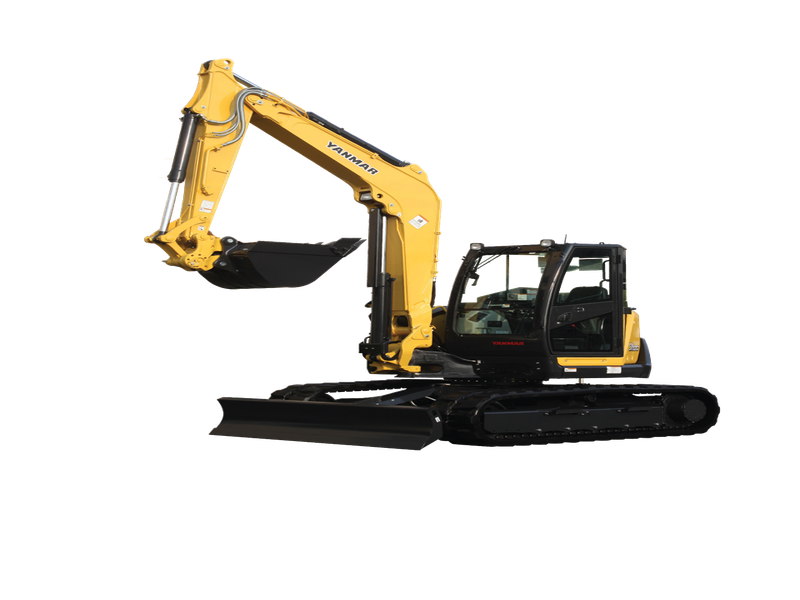shovel: (139, 54, 737, 452)
